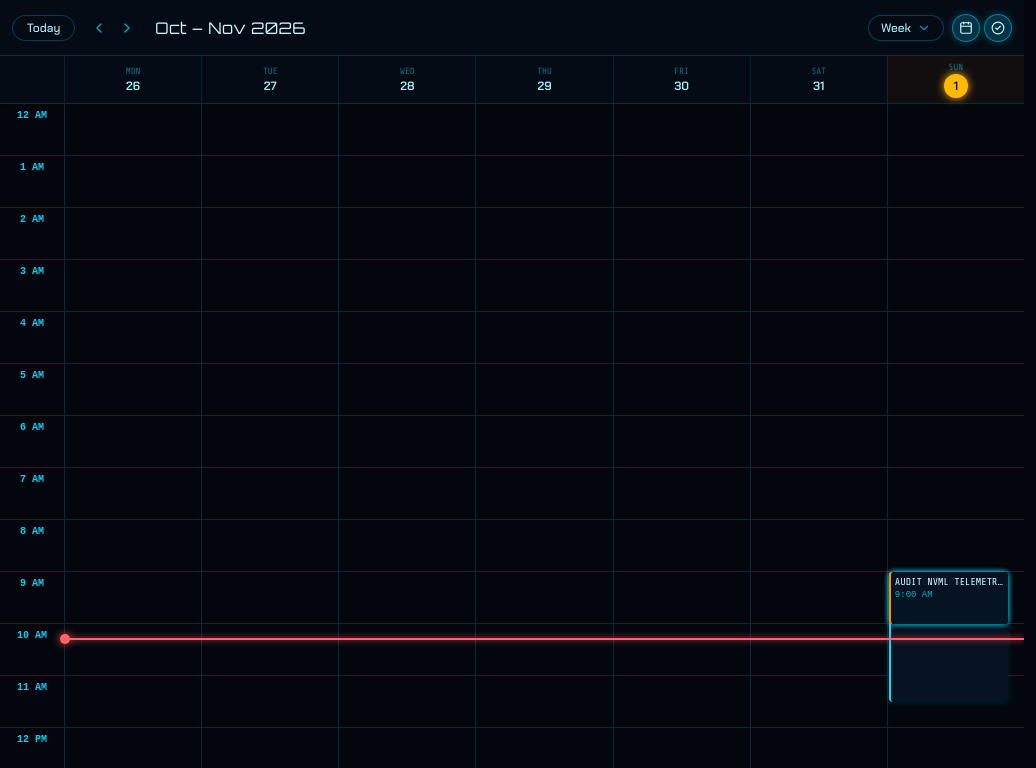
it: CalendarView Component › opens mode switcher dropdown and shows all 6 modes with hotkeys
Click the button with test id "mode-dropdown-button": (906, 28) [868,14,944,40]
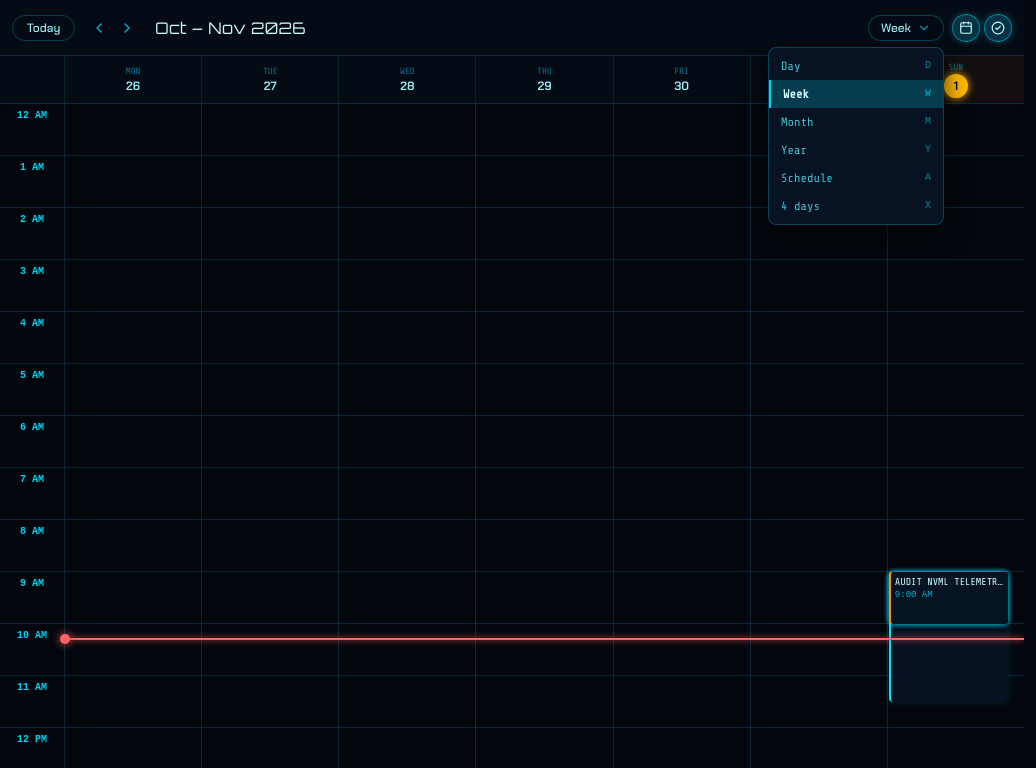
expect the element with test id "mode-dropdown-menu" is shown: met, box [768,46,944,224]
expect the button with test id "mode-option-day" shows "Day": met, box [769,52,943,80]
expect the button with test id "mode-option-day" shows "D": met, box [769,52,943,80]
